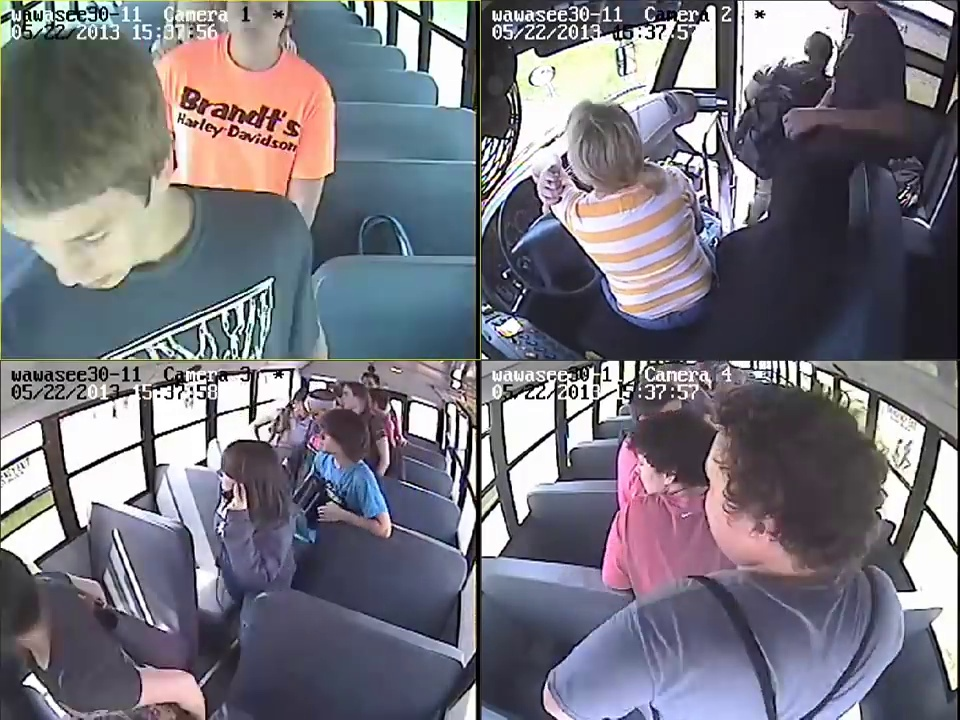face: (8, 190, 160, 296), (698, 424, 771, 566), (632, 434, 674, 492), (218, 457, 247, 503), (317, 428, 341, 457)
